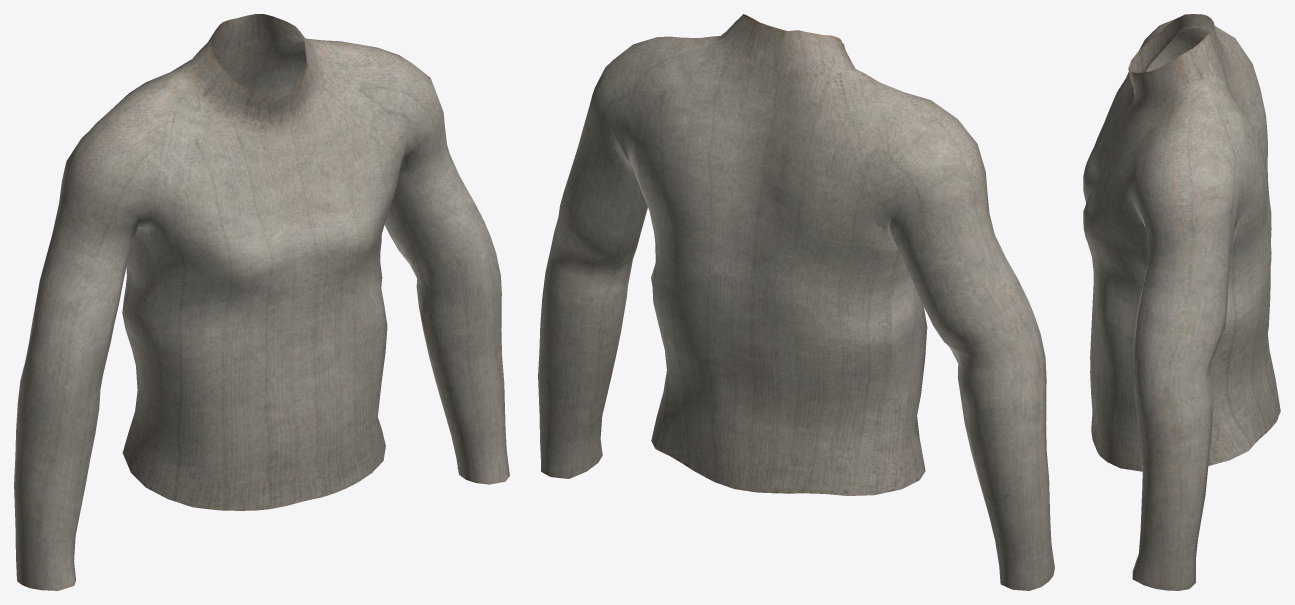
The model's file is mindfront-knitted-sweater-01.glb.
The picture shows the model from 3 angles, left to right: view 1: azimuth 30°, elevation 25°; view 2: azimuth 150°, elevation 25°; view 3: azimuth 270°, elevation 25°; orthographic projection. The views are drawn at different scales.
Parts seen in each view (by area): view 1: Human.mindfront_knitted_sweater_01; view 2: Human.mindfront_knitted_sweater_01; view 3: Human.mindfront_knitted_sweater_01.
Boxes of the visible parts, x1,y1,x2,y2 form: Human.mindfront_knitted_sweater_01: (14, 14, 509, 590); Human.mindfront_knitted_sweater_01: (538, 14, 1054, 590); Human.mindfront_knitted_sweater_01: (1083, 14, 1280, 590).
Size of the model in its own units: 0.7339 by 0.7176 by 0.2809.
1 material, 1 textured.
